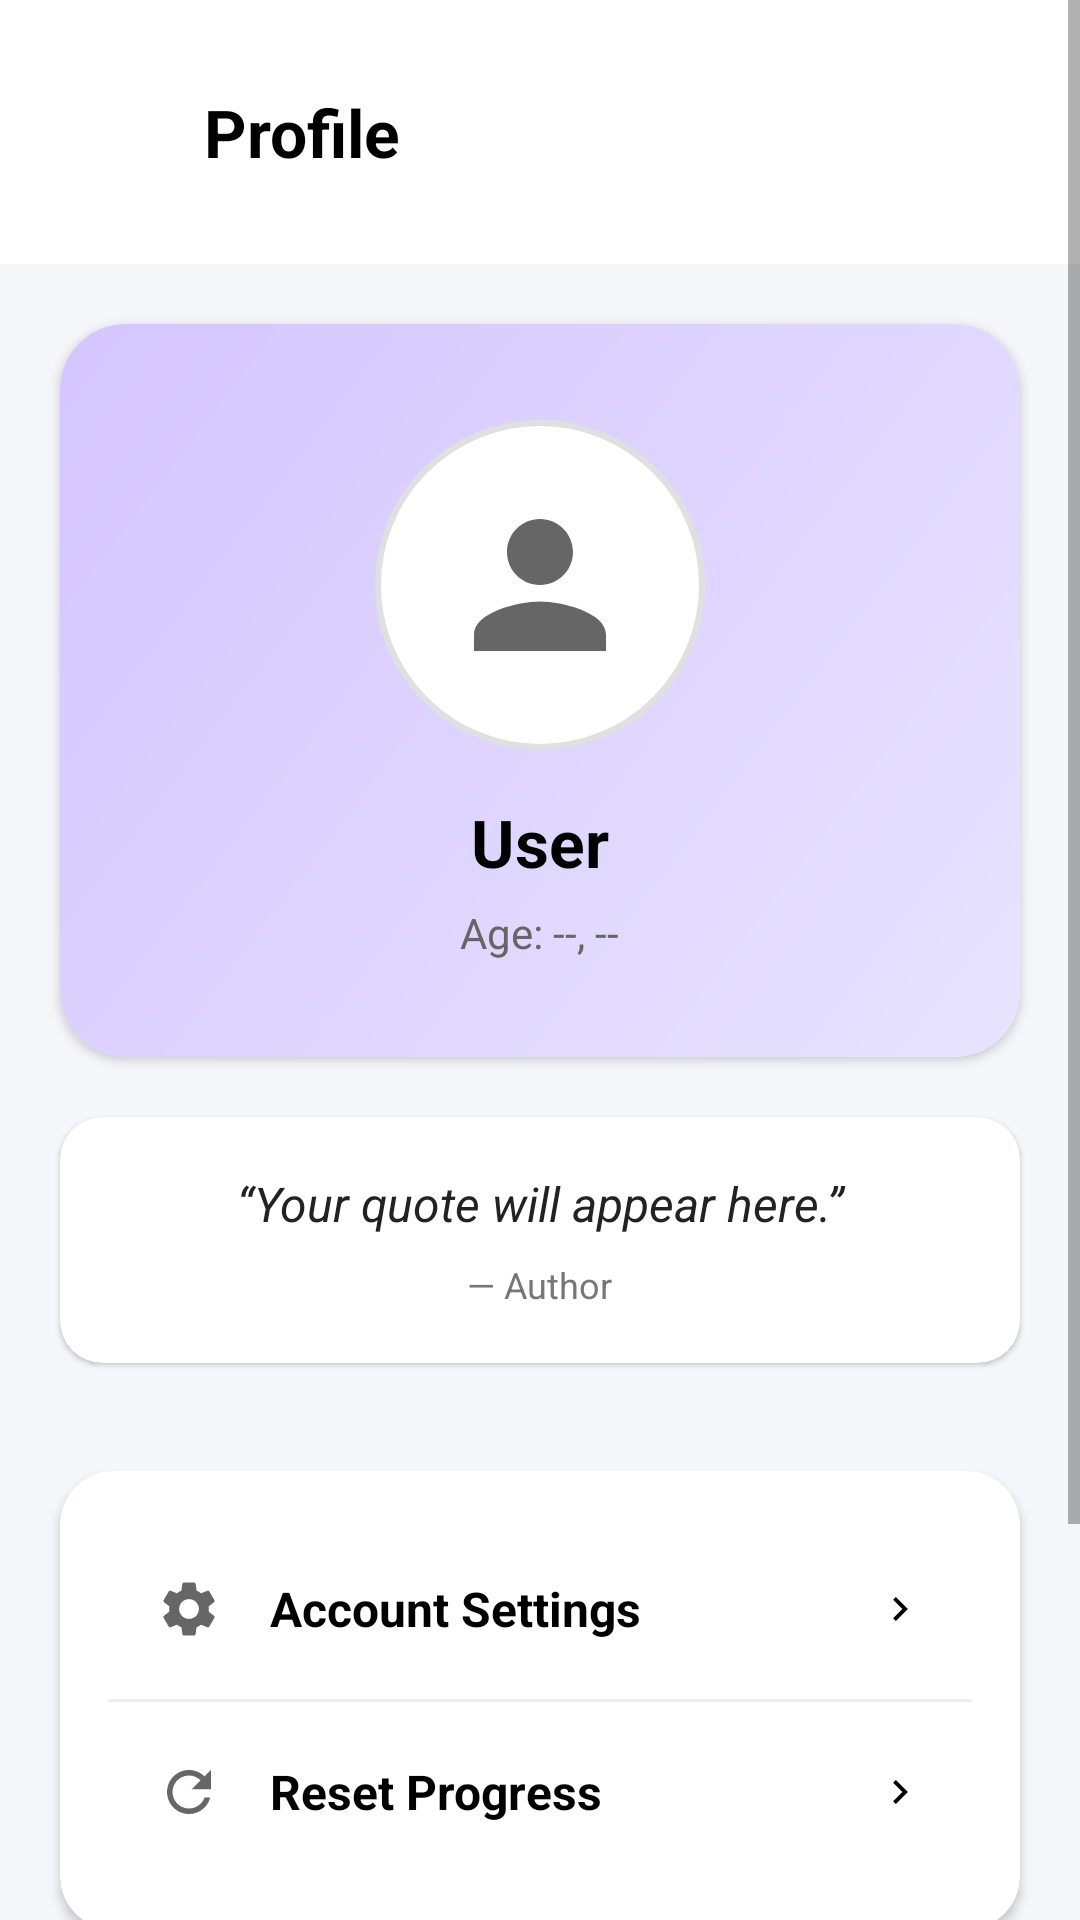

Where to tap for icons on this 1080px x 1920px app screen, as [x,y]:
chevron right: [900,1609], [900,1792]
person: [540,585]
